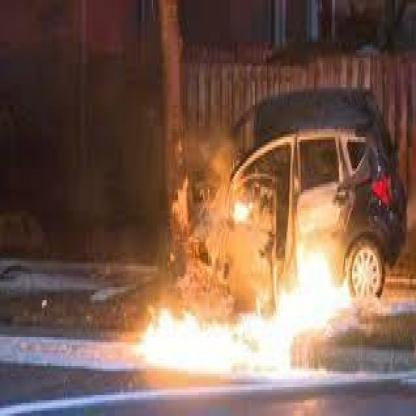fire: (108, 108, 370, 375)
